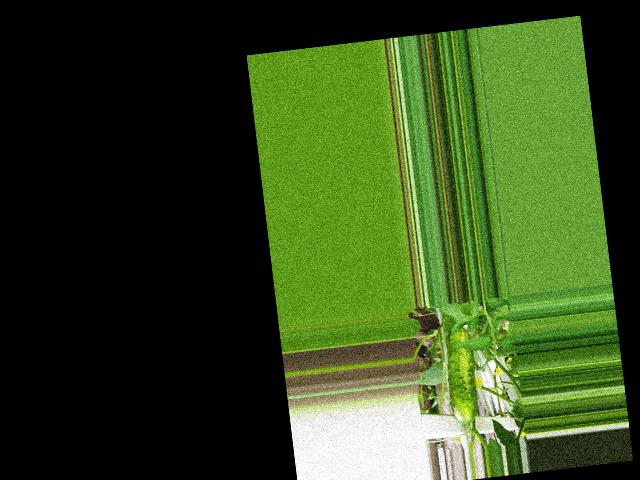cucumber: (441, 327, 480, 425)
